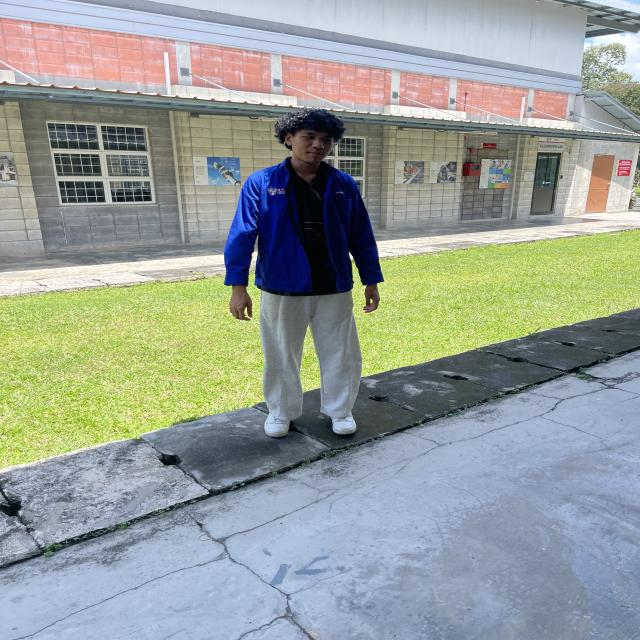person_with_labcoat: (224, 108, 383, 438)
